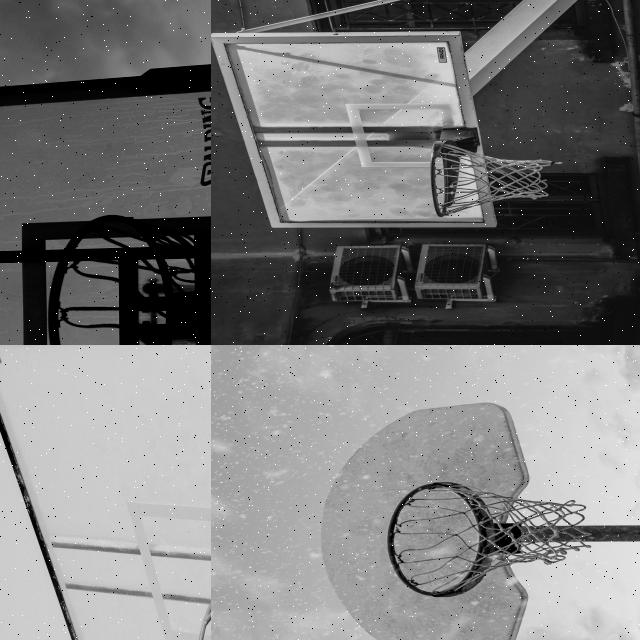backboard: (0, 345, 211, 640), (0, 57, 211, 345), (211, 31, 498, 227), (320, 403, 526, 640)
